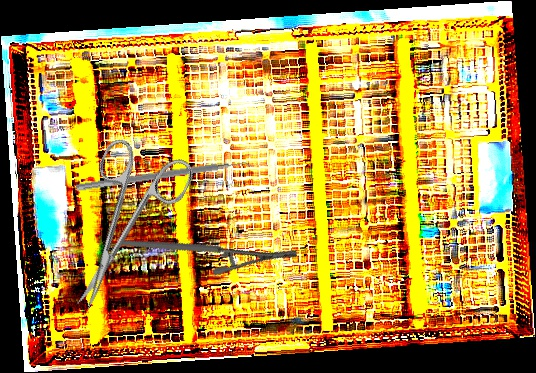Iris Scissors: (39, 127, 198, 327)
Needle Holder: (118, 184, 300, 311)
Spatula Surgical: (75, 156, 254, 199)
